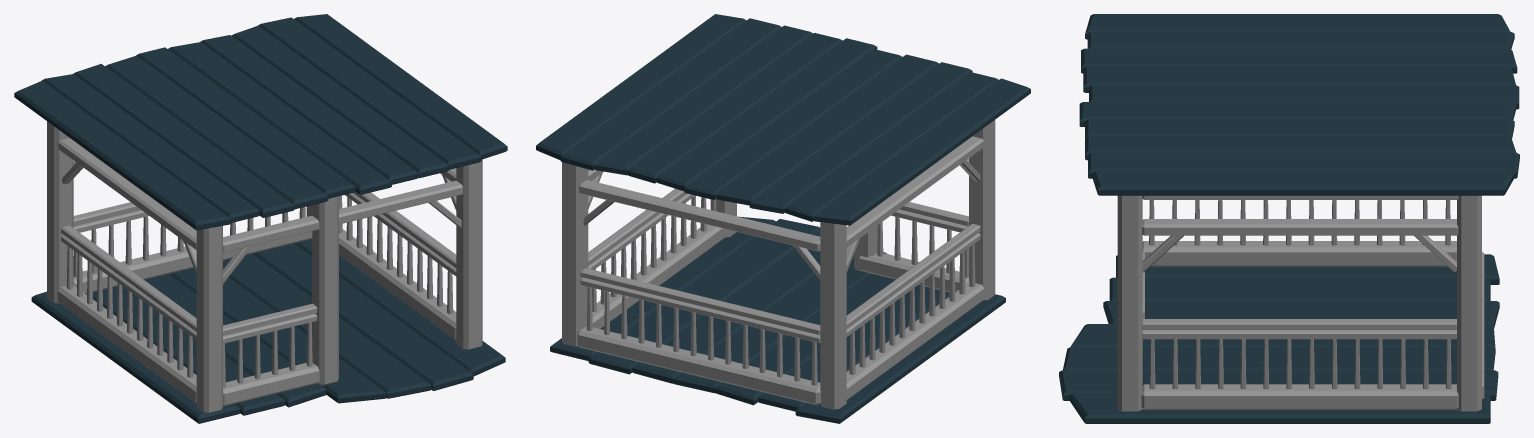
The model's file is farmstractures_08.glb.
3 renders of one model, left to right at view 1: azimuth 30°, elevation 25°; view 2: azimuth 150°, elevation 25°; view 3: azimuth 270°, elevation 25°, orthographic. The views are drawn at different scales.
Parts seen in each view (by area): view 1: farmstractures_08; view 2: farmstractures_08; view 3: farmstractures_08.
Part boxes in pixels (<box>): farmstractures_08: <box>14,14,507,423</box>; farmstractures_08: <box>536,14,1030,423</box>; farmstractures_08: <box>1059,14,1519,423</box>.
Size of the model in its own units: 3.58 by 2.31 by 4.
1 material, 1 textured.
